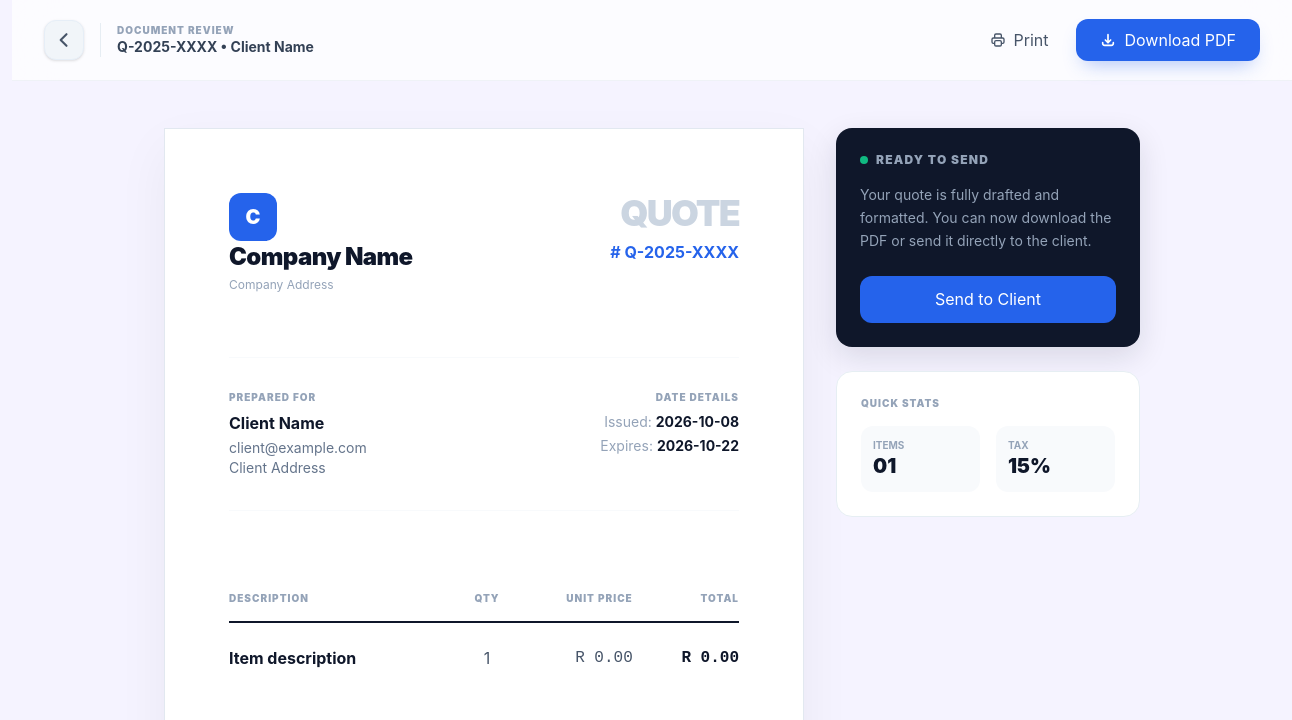
Test: QuotePreview integration › navigates back to the quote builder
Click the 1st button.
click(64, 40)  # box x1=44 y1=20 x2=84 y2=60
(page scrolled)
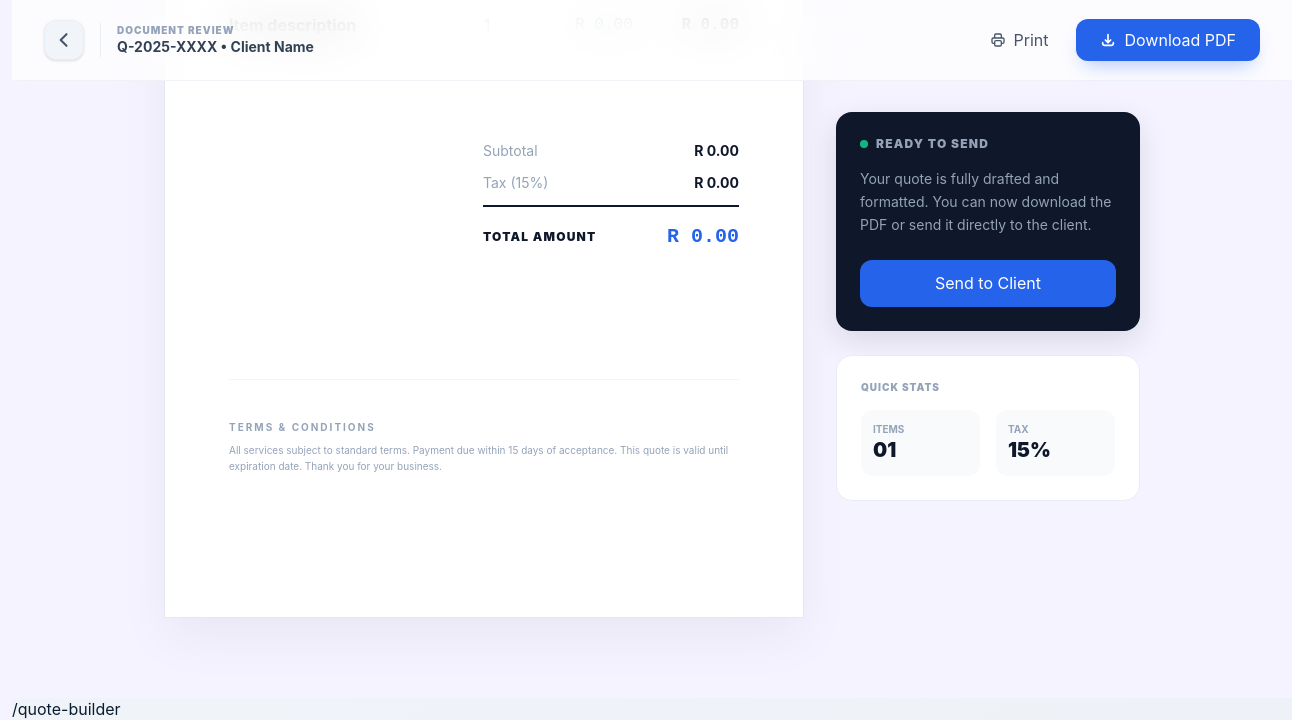
Result: the text with test id "location" reads "/quote-builder" at x1=12 y1=698 x2=120 y2=718
